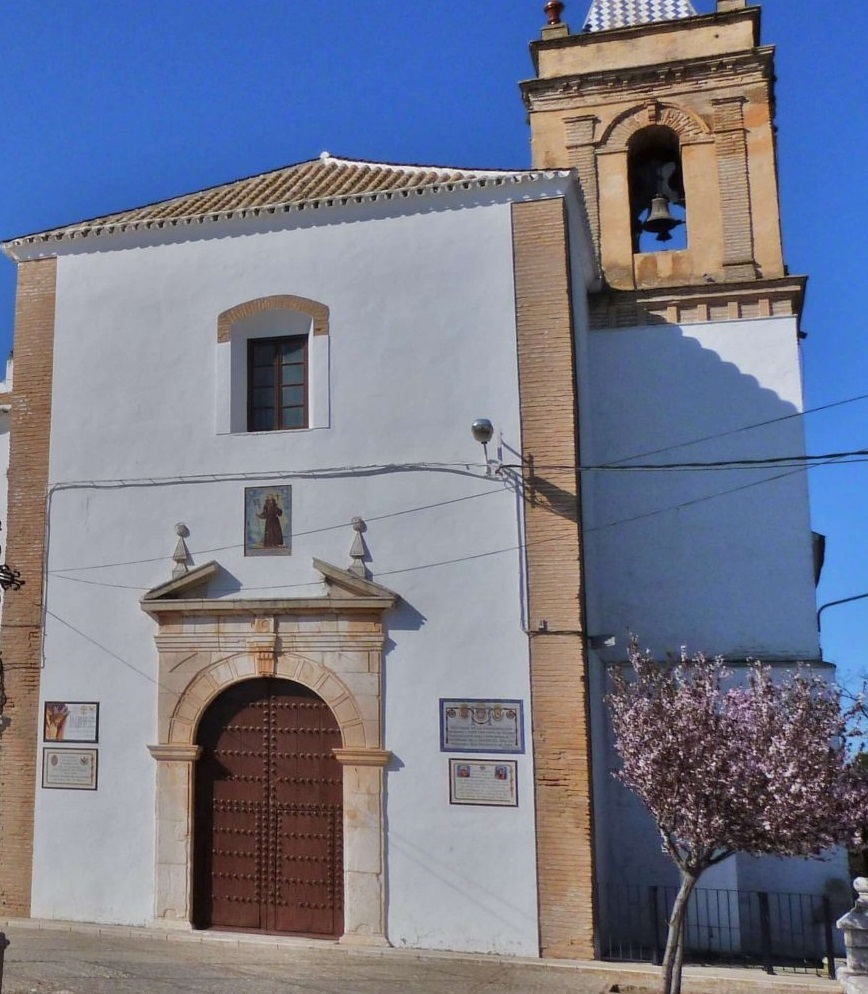arco-medio-punto: (181, 666, 352, 774)
fronton-partido: (135, 552, 400, 615)
